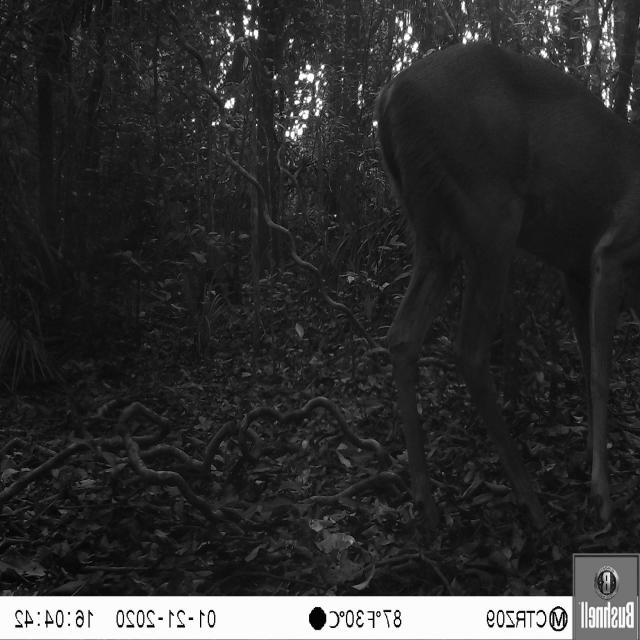White-tailed Deer: (361, 24, 640, 546)
